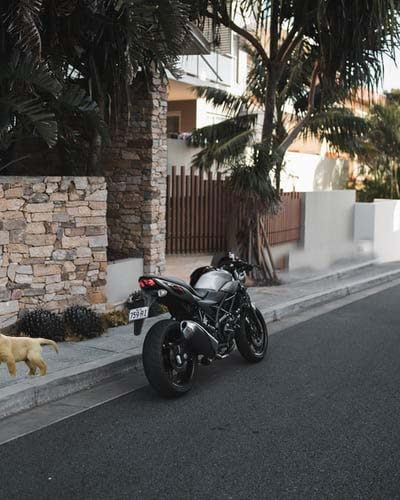copymove: (64, 308, 93, 340)
removal: (289, 242, 364, 269)
spliced: (1, 330, 58, 381)
